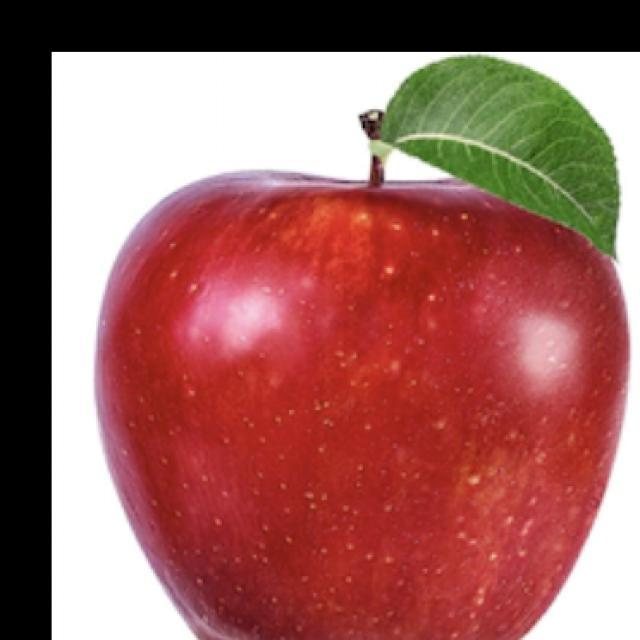Fresh Apple: (106, 173, 598, 640)
